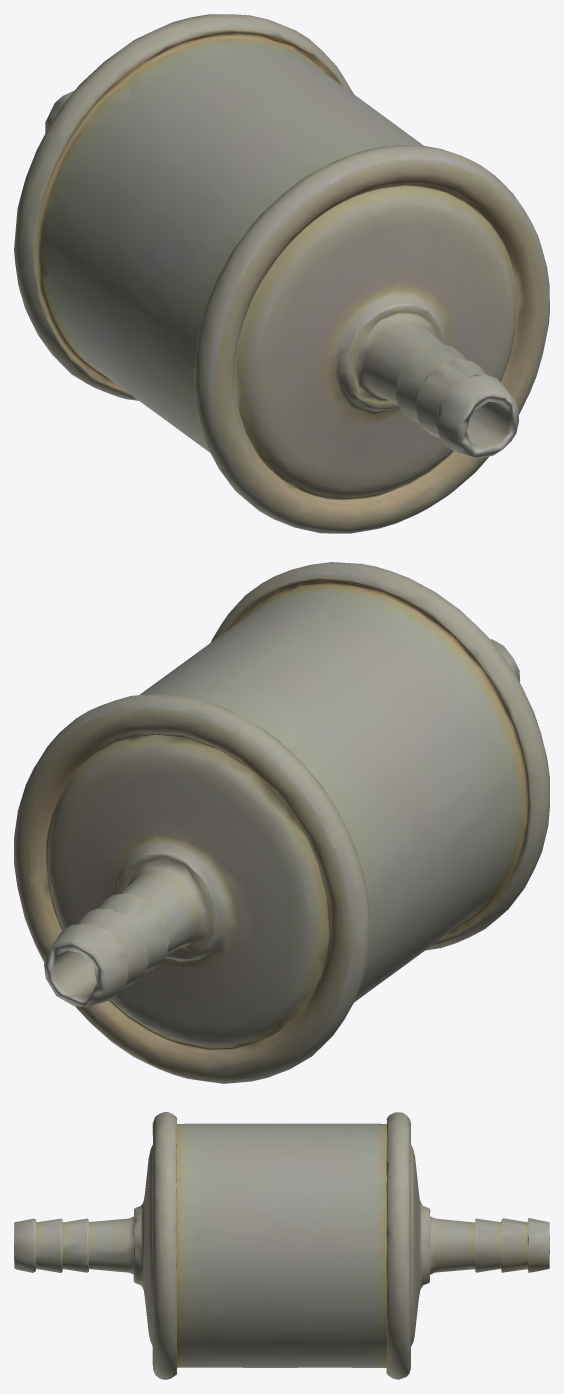
The model's file is fuel-line-vapor-gas-control.glb.
The picture shows the model from 3 angles, top to bottom: view 1: azimuth 30°, elevation 25°; view 2: azimuth 150°, elevation 25°; view 3: azimuth 270°, elevation 25°; orthographic projection. The views are drawn at different scales.
Visible parts, largest first — view 1: tripo_node_4e2b6199-e112-4e2f-b393-f4c9faecf390; view 2: tripo_node_4e2b6199-e112-4e2f-b393-f4c9faecf390; view 3: tripo_node_4e2b6199-e112-4e2f-b393-f4c9faecf390.
Part boxes in pixels (x1=…): tripo_node_4e2b6199-e112-4e2f-b393-f4c9faecf390: x1=14, y1=14, x2=549, y2=533; tripo_node_4e2b6199-e112-4e2f-b393-f4c9faecf390: x1=14, y1=562, x2=549, y2=1083; tripo_node_4e2b6199-e112-4e2f-b393-f4c9faecf390: x1=14, y1=1112, x2=549, y2=1379.
Bounding box in the file's own units: 0.4899 × 0.503 × 1.
Materials: 1 (1 with a texture image).
